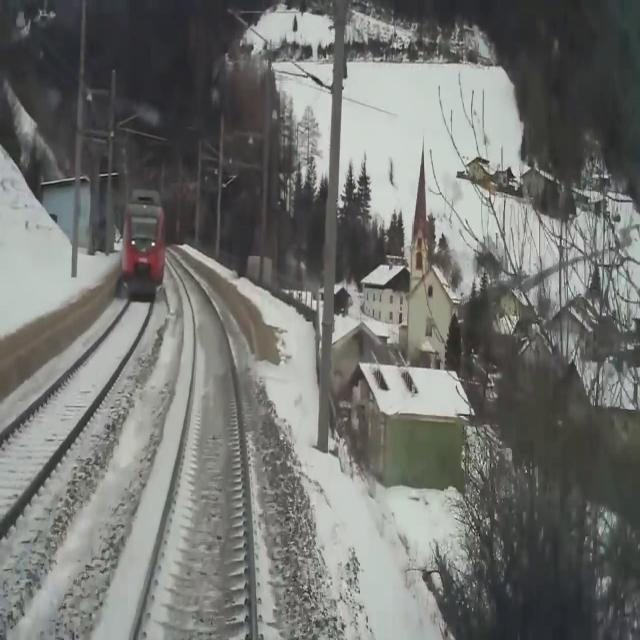rail-track: (135, 249, 255, 639), (0, 298, 151, 518)
